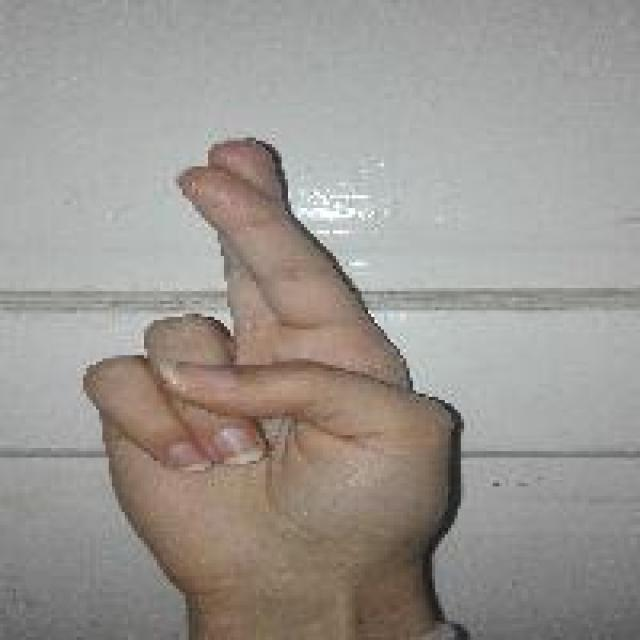R: (74, 128, 467, 586)
